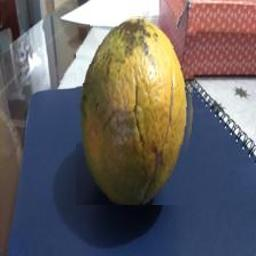Orange Semirotten: (77, 15, 198, 205)
